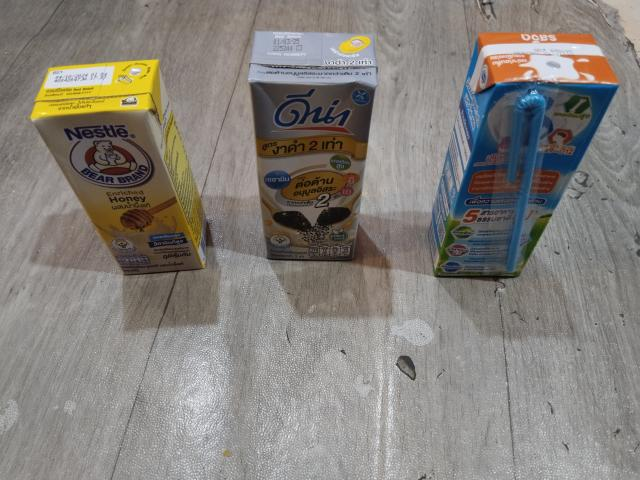drink_box: (420, 29, 630, 284), (22, 51, 225, 288), (249, 25, 377, 262)
